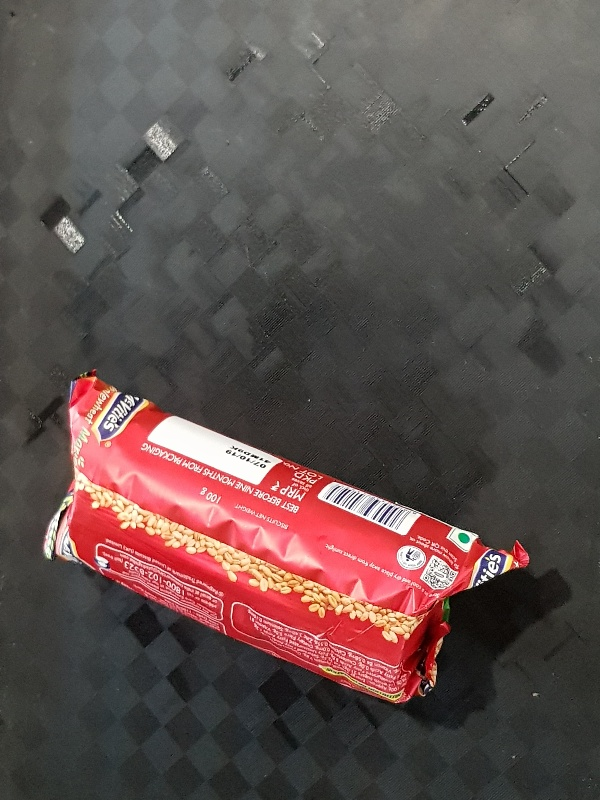McVitie's Wholewheat Marie: (41, 367, 531, 704)
